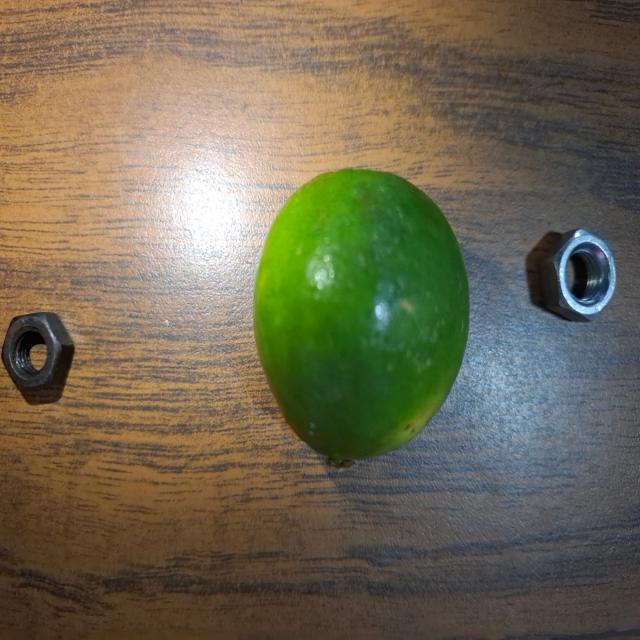limon: (251, 164, 474, 474)
milimetrico: (1, 311, 76, 391)
tuerca: (544, 226, 622, 336)
